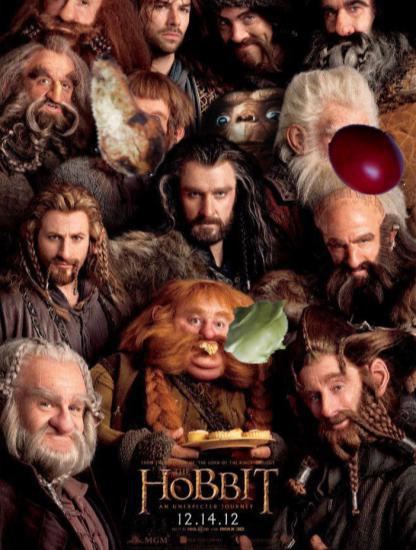Kohlrabi: (219, 289, 300, 370)
Pear: (53, 48, 189, 184)
Tamarillo: (325, 117, 412, 204)
